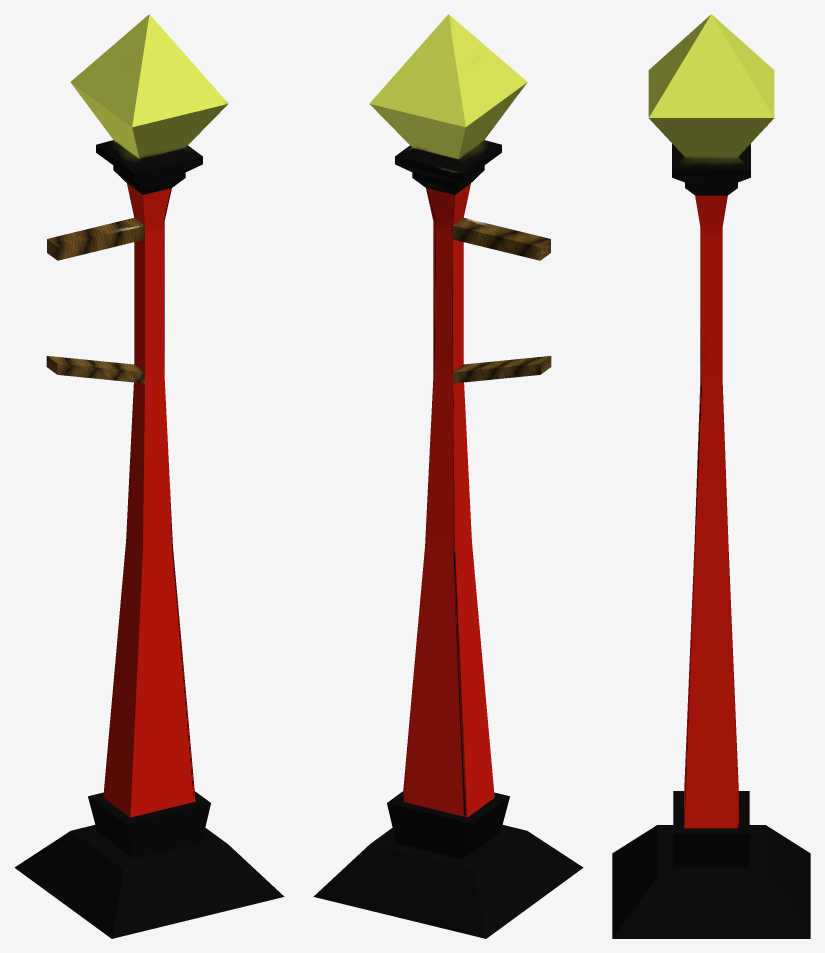
File: FinishPost.fbx
3 views of the same model, side by side, from view 1: azimuth 30°, elevation 25°; view 2: azimuth 150°, elevation 25°; view 3: azimuth 270°, elevation 25° (orthographic).
Parts seen in each view (by area): view 1: FinishLine_Post; view 2: FinishLine_Post; view 3: FinishLine_Post.
Boxes of the visible parts, box(x1,y1,x2,y2) form: FinishLine_Post: box(14, 14, 284, 938); FinishLine_Post: box(313, 14, 583, 938); FinishLine_Post: box(612, 14, 810, 938).
Size of the model in its own units: 2.54 by 11.44 by 2.33.
Materials: 1 (1 with a texture image).
